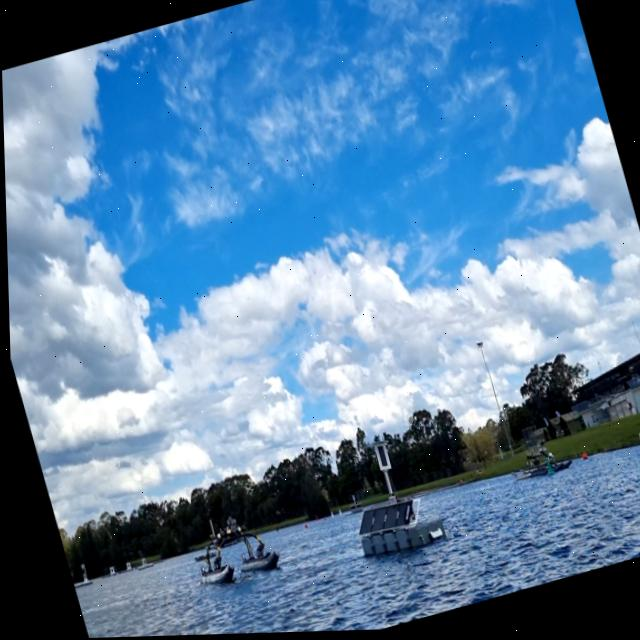led: (371, 444, 388, 472)
